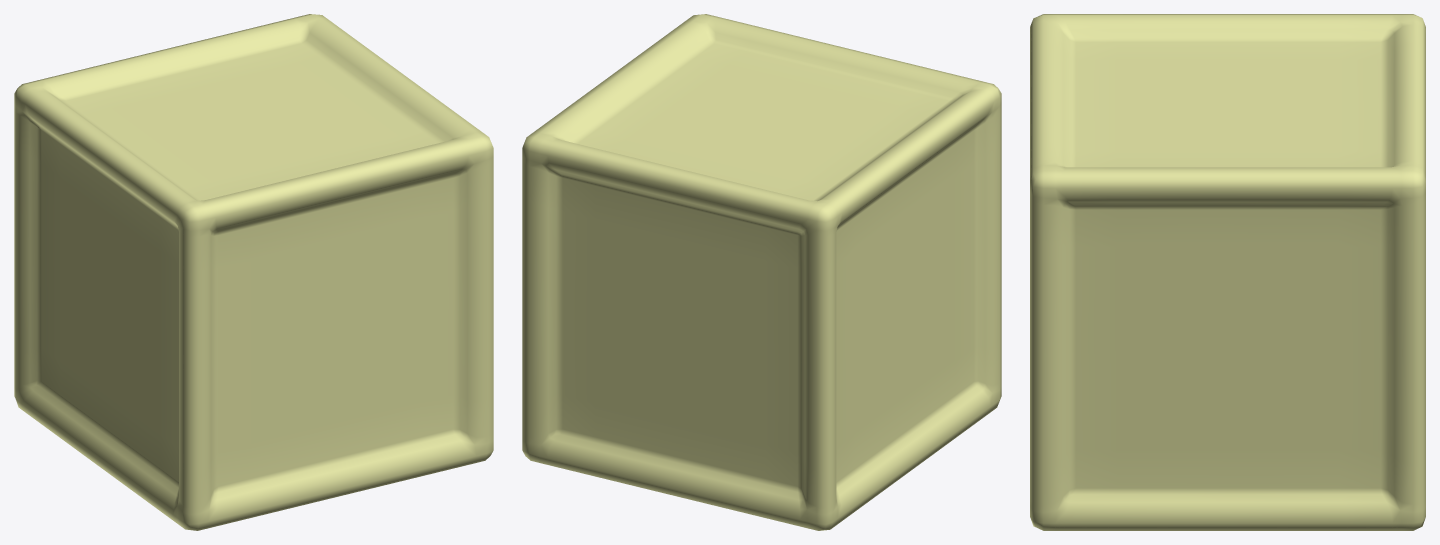
Rendered from Yellow Block.fbx.
The picture shows the model from 3 angles, left to right: view 1: azimuth 30°, elevation 25°; view 2: azimuth 150°, elevation 25°; view 3: azimuth 270°, elevation 25°; orthographic projection. The views are drawn at different scales.
Visible parts, largest first — view 1: pCube11; view 2: pCube11; view 3: pCube11.
Boxes of the visible parts, <box> form: pCube11: <box>14,14,493,530</box>; pCube11: <box>522,14,1001,530</box>; pCube11: <box>1030,14,1425,530</box>.
Bounding box in the file's own units: 1.88 × 1.88 × 1.88.
